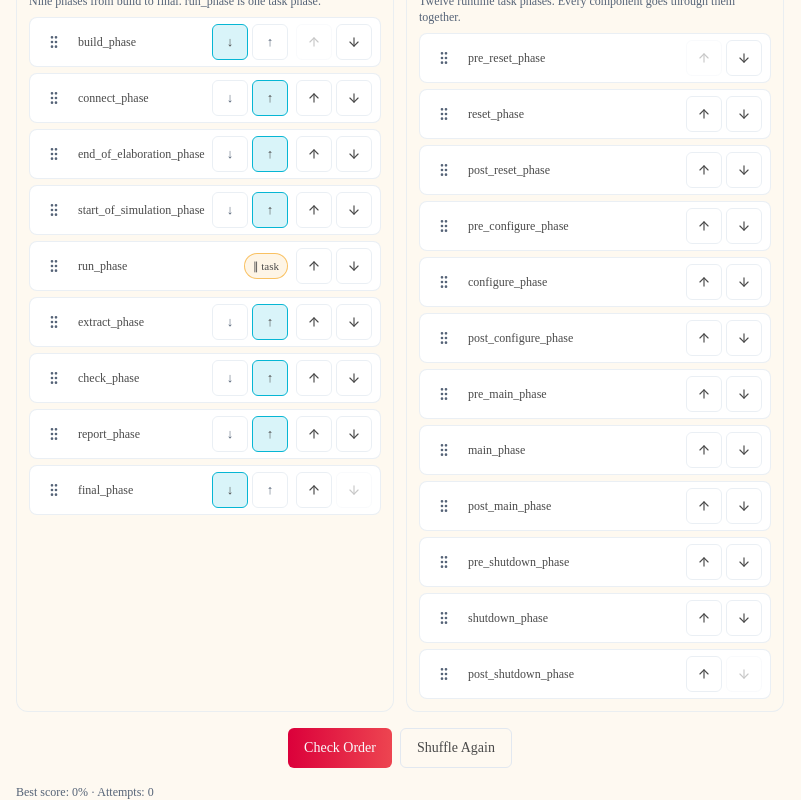
Test: UvmPhaseSorterExercise (two lanes + direction) › scores 100% when both lanes are ordered and every direction is right
(page scrolled)
Click the button "Check Order" at (340, 748), box [288,728,392,768]
(page scrolled)
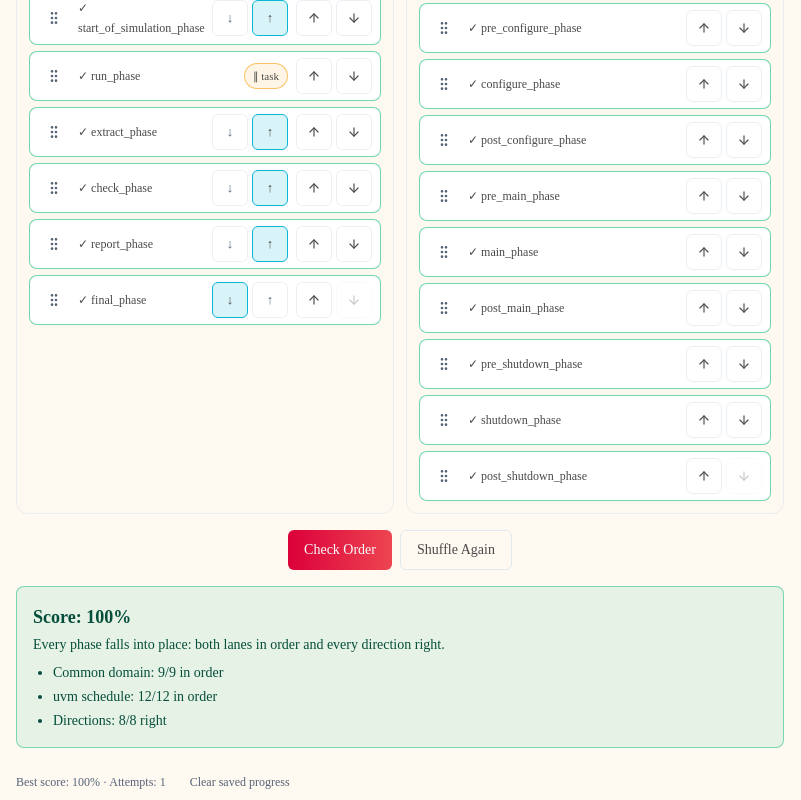
Result: the text "Score: 100%" is shown at [33,607,131,627]
Result: the text "Every phase falls into place" is shown at [33,637,445,652]
